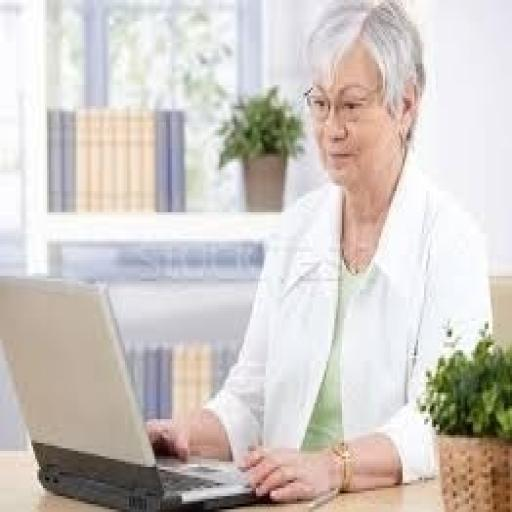using_laptop: (11, 201, 310, 512)
